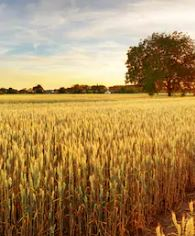Paddy: (18, 144, 77, 208)
Wheat: (14, 150, 93, 217)
